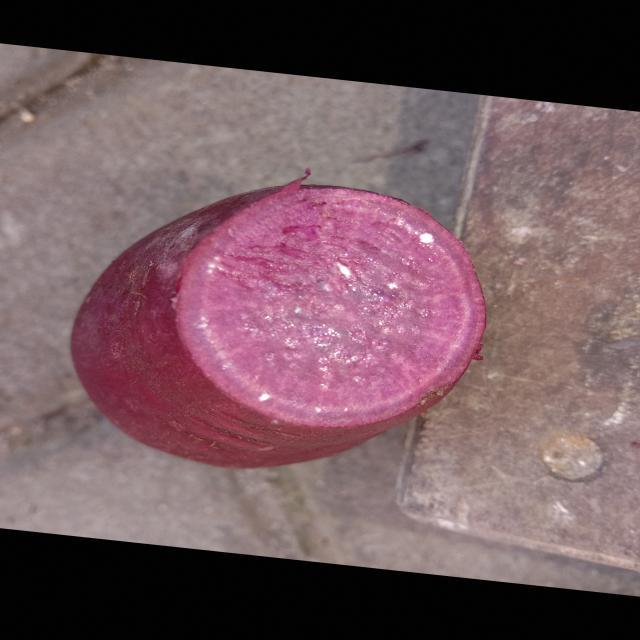Healthy Sweet Potato: (178, 180, 485, 428)
